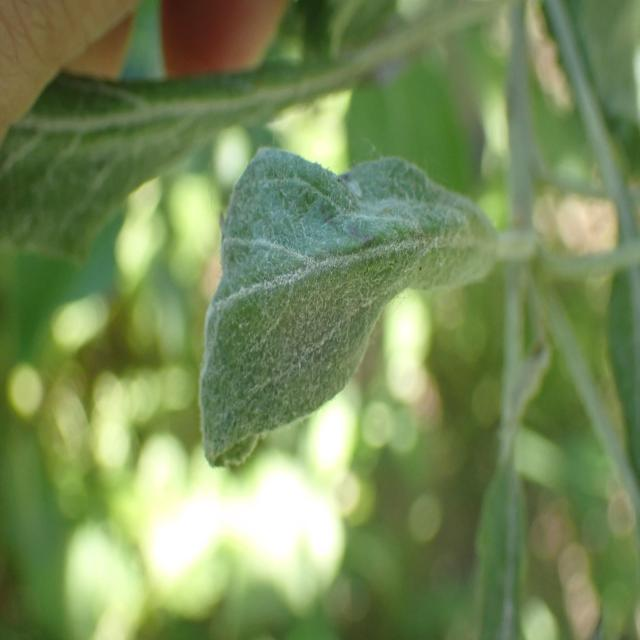Powdery_mildew: (202, 134, 504, 497)
